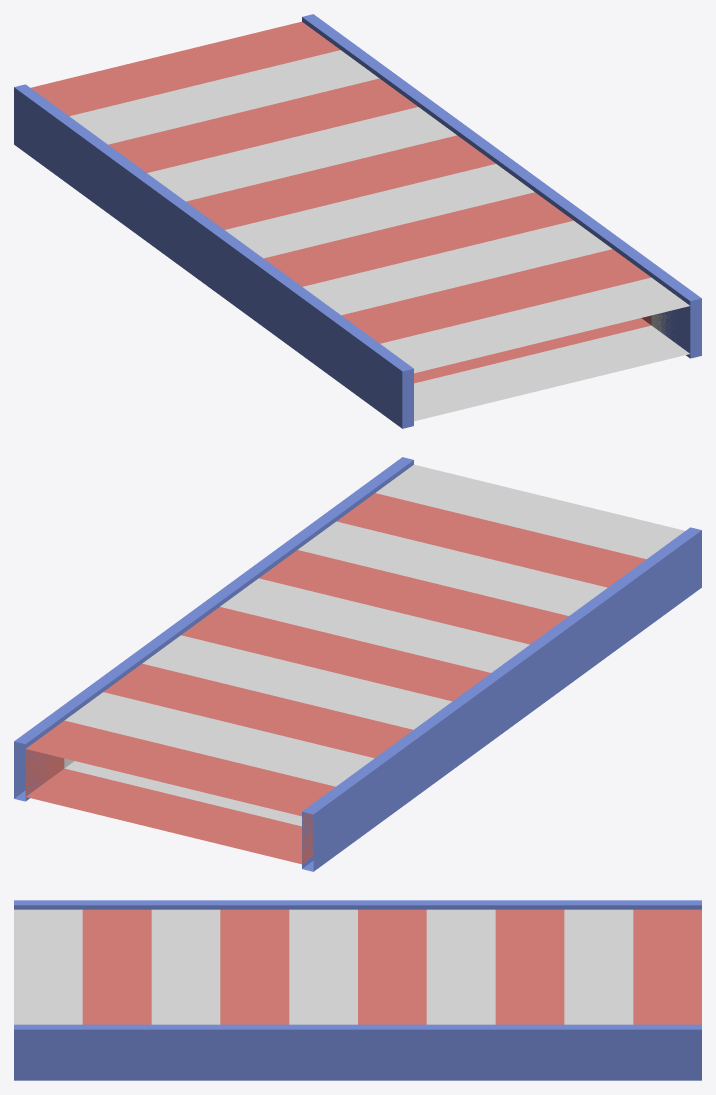
File: map.fbx
The picture shows the model from 3 angles, top to bottom: view 1: azimuth 30°, elevation 25°; view 2: azimuth 150°, elevation 25°; view 3: azimuth 270°, elevation 25°; orthographic projection. The views are drawn at different scales.
Parts seen in each view (by area): view 1: NurbsPath.001; view 2: NurbsPath.001; view 3: NurbsPath.001.
Boxes of the visible parts, bbox=[...] form: NurbsPath.001: bbox=[14, 14, 701, 428]; NurbsPath.001: bbox=[14, 457, 701, 871]; NurbsPath.001: bbox=[14, 900, 701, 1080].
Size of the model in its own units: 326 by 59.79 by 733.
